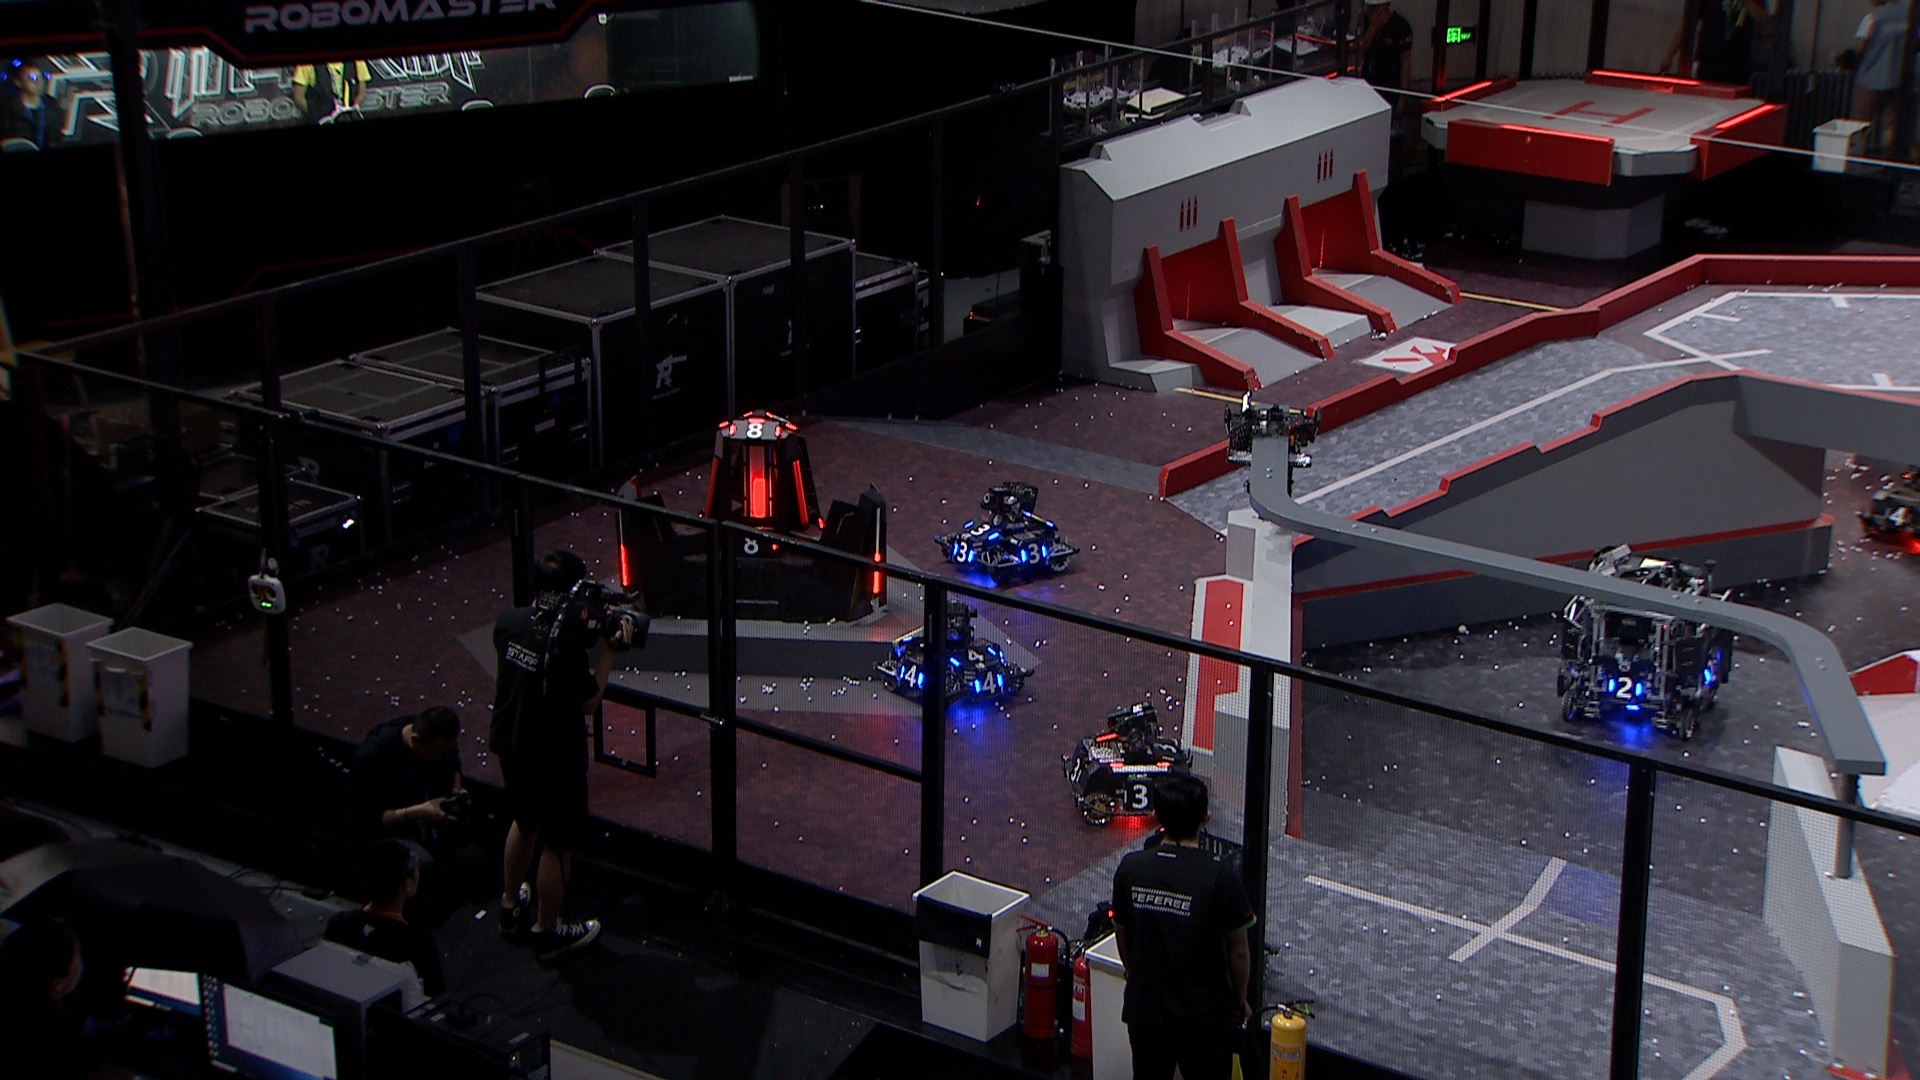armor: (700, 452, 721, 520), (745, 473, 771, 524), (724, 419, 779, 442), (727, 531, 775, 553), (793, 458, 807, 527), (1604, 676, 1640, 700), (951, 646, 994, 665), (973, 669, 1005, 694), (1121, 785, 1155, 806), (617, 542, 632, 588), (1884, 506, 1917, 526), (963, 520, 997, 538), (897, 665, 923, 688), (1154, 732, 1176, 760), (870, 551, 884, 597), (1021, 543, 1048, 564), (951, 541, 975, 560), (1702, 657, 1717, 688), (1068, 756, 1083, 782)
base: (608, 406, 894, 622)
car: (1553, 549, 1742, 744), (1079, 828, 1283, 984), (877, 600, 1031, 711), (1058, 704, 1193, 828), (942, 479, 1083, 588), (1859, 462, 1920, 556)
watcher: (1221, 386, 1325, 502)
